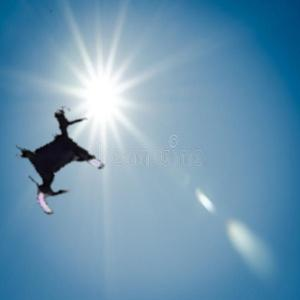drone: (5, 104, 121, 220)
